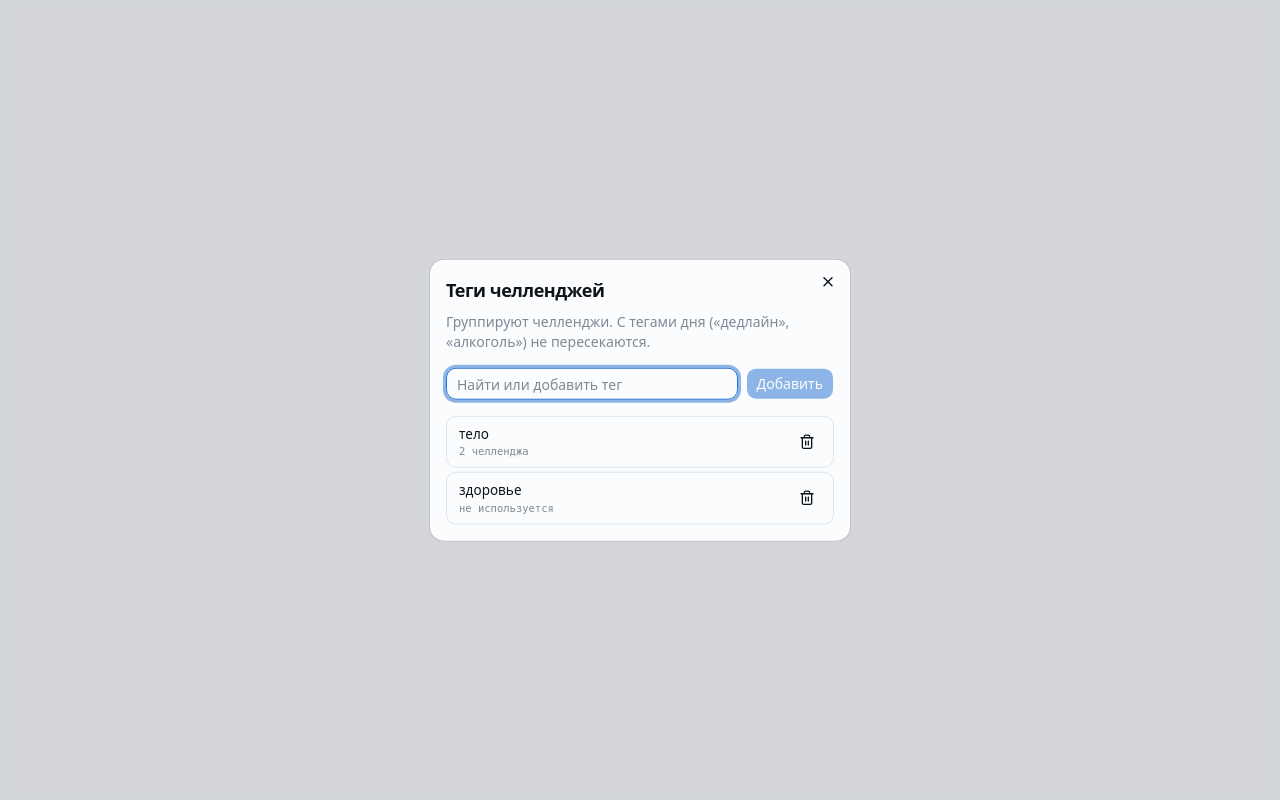
окно тегов › если по поиску ничего нет — подсказывает, что такой тег можно добавить
The width and height of the screenshot is (1280, 800).
Type "сон" into the field named "новый тег" at (592,384), box [446, 368, 738, 400]
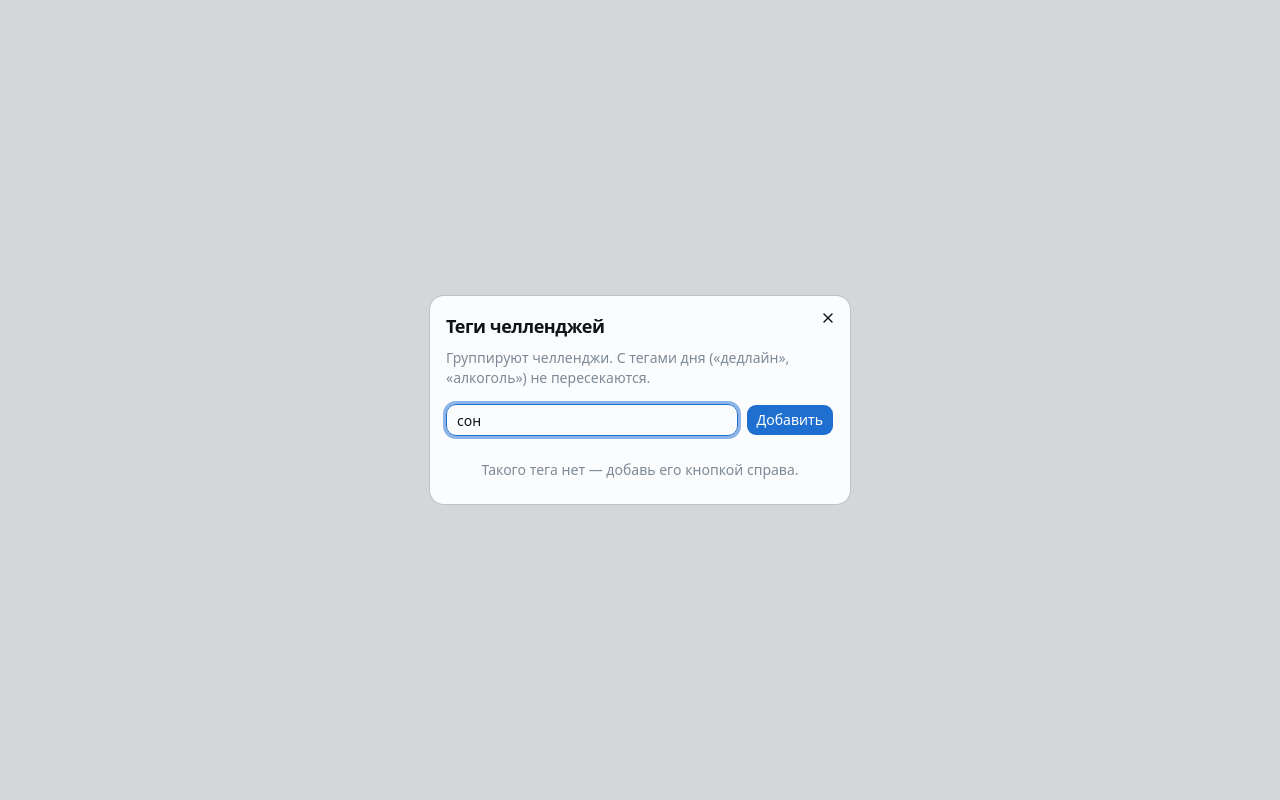
Now the text "Такого тега нет — добавь его кнопкой справа." is shown, box [482, 460, 798, 479]
